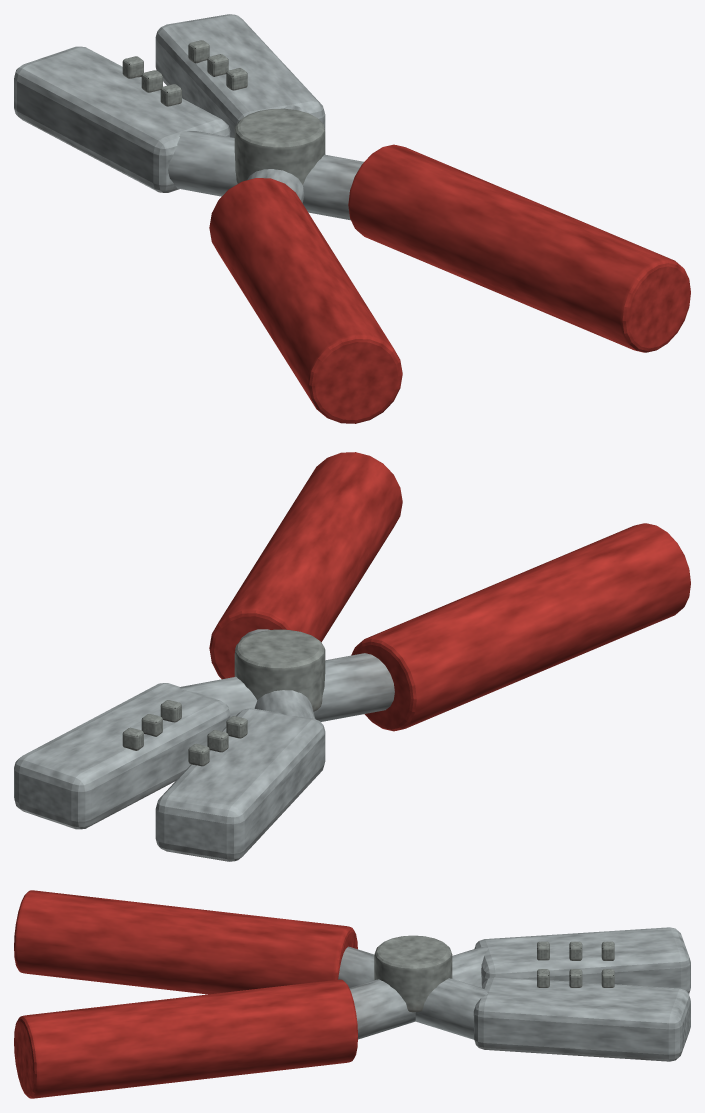
File: GR_CombinationPliers_04.glb
3 views of the same model, one above another, from view 1: azimuth 30°, elevation 25°; view 2: azimuth 150°, elevation 25°; view 3: azimuth 270°, elevation 25° (orthographic). The views are drawn at different scales.
Parts seen in each view (by area): view 1: Static; view 2: Static; view 3: Static.
Part boxes in pixels (left/top/right/bottom): Static: left=14, top=14, right=690, bottom=423; Static: left=14, top=452, right=690, bottom=861; Static: left=14, top=890, right=690, bottom=1098.
Size of the model in its own units: 0.1163 by 0.028 by 0.2084.
1 material, 1 textured.
